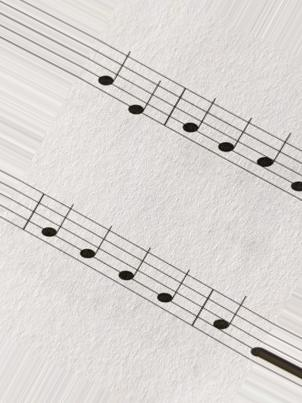note: (256, 125, 294, 194), (77, 211, 113, 282), (94, 40, 130, 110), (154, 255, 190, 325), (38, 194, 75, 260), (181, 91, 218, 155), (127, 58, 162, 124), (216, 105, 249, 175), (119, 234, 152, 303), (212, 286, 243, 355)
